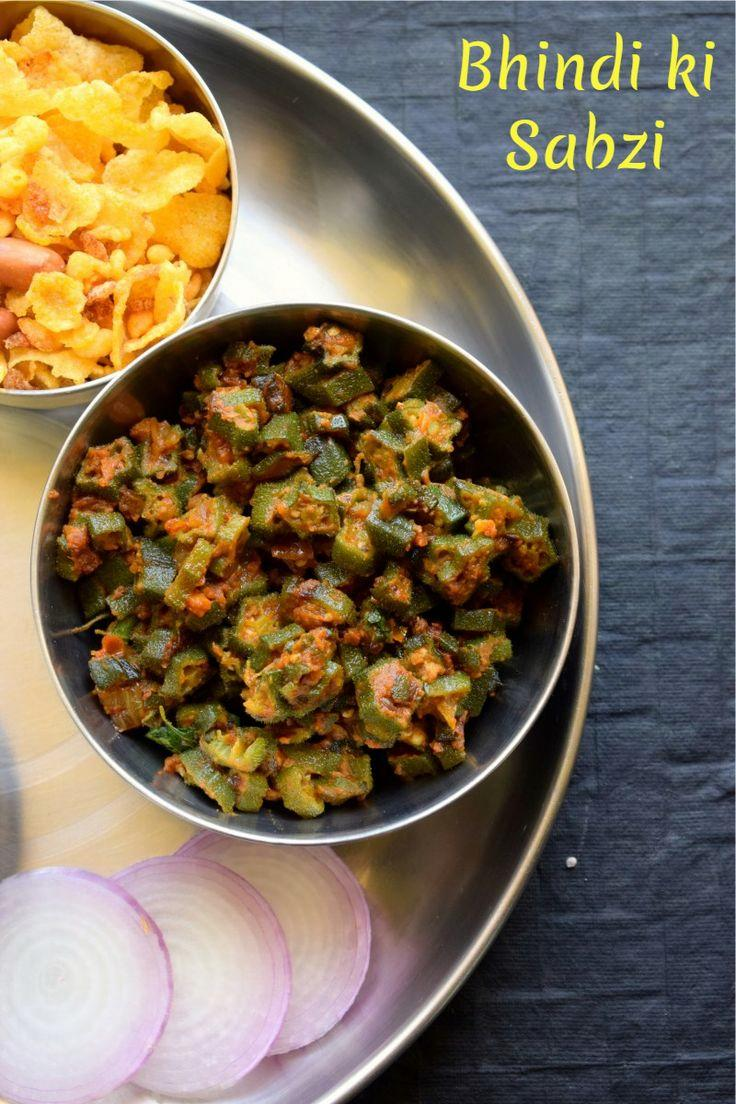bhindi: (77, 417, 511, 807)
